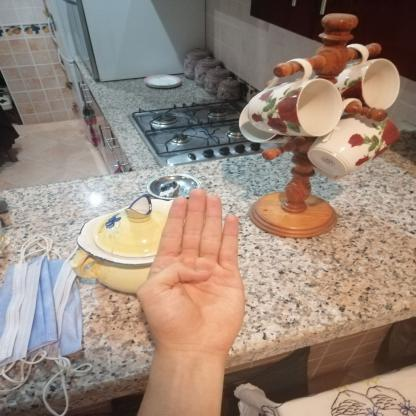KAAF: (120, 177, 258, 366)
